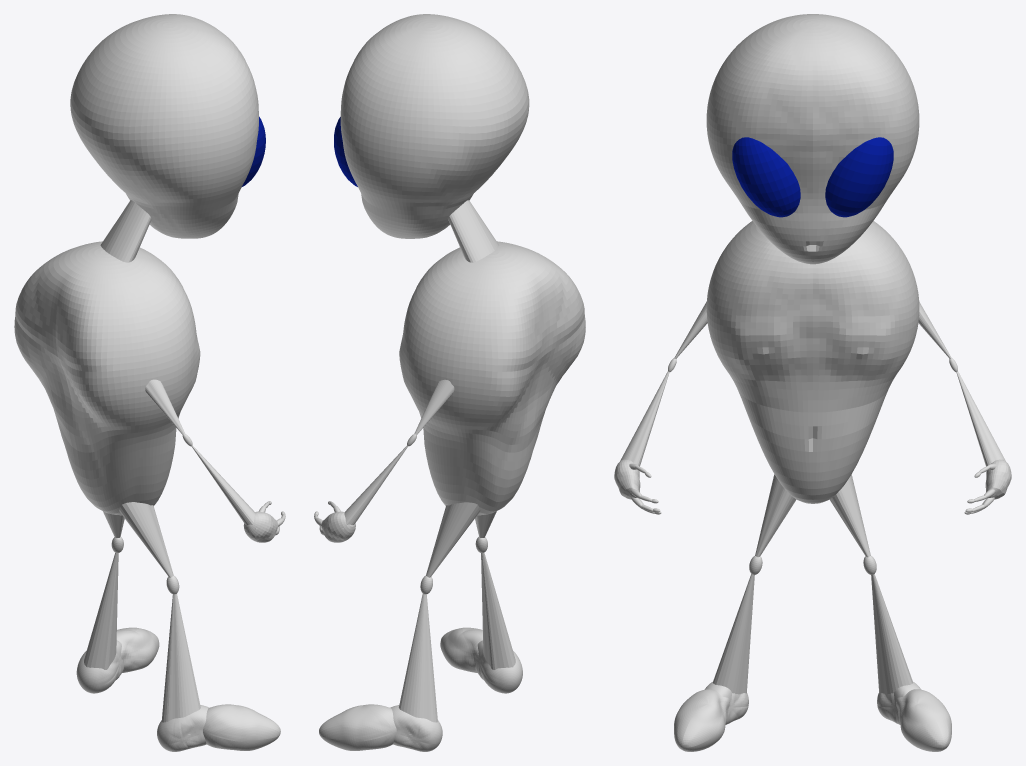
Rendered from alien.fbx.
The picture shows the model from 3 angles, left to right: view 1: azimuth 30°, elevation 25°; view 2: azimuth 150°, elevation 25°; view 3: azimuth 270°, elevation 25°; orthographic projection. The views are drawn at different scales.
Parts seen in each view (by area): view 1: Sphere.003, Sphere, Cone.001, Cone.004, Cylinder, Cone.002, Sphere.004, Sphere.001; view 2: Sphere.003, Sphere, Cone.004, Cone.001, Cylinder, Cone.003, Sphere.008, Sphere.002; view 3: Sphere.003, Sphere, Cone.001, Cone.004, Sphere.001, Sphere.002, Cone.002, Cone.003, Sphere.008, Sphere.004.
Part boxes in pixels (x1,y1,x2,y2): Sphere.003: [14, 241, 200, 515]; Sphere: [70, 14, 258, 238]; Cone.001: [119, 502, 280, 751]; Cone.004: [76, 511, 159, 693]; Cylinder: [100, 200, 151, 262]; Cone.002: [145, 379, 257, 529]; Sphere.004: [243, 501, 285, 542]; Sphere.001: [242, 116, 265, 186]; Sphere.003: [399, 241, 585, 515]; Sphere: [340, 14, 529, 238]; Cone.004: [319, 502, 480, 751]; Cone.001: [440, 511, 522, 693]; Cylinder: [448, 200, 499, 262]; Cone.003: [342, 379, 454, 529]; Sphere.008: [314, 501, 355, 542]; Sphere.002: [334, 117, 357, 186]; Sphere.003: [706, 221, 919, 503]; Sphere: [706, 14, 919, 264]; Cone.001: [674, 474, 796, 751]; Cone.004: [829, 474, 951, 751]; Sphere.001: [732, 137, 800, 217]; Sphere.002: [825, 137, 893, 217]; Cone.002: [620, 301, 707, 466]; Cone.003: [918, 302, 1005, 466]; Sphere.008: [964, 459, 1011, 514]; Sphere.004: [614, 459, 661, 514].
Size of the model in its own units: 216 by 739 by 373.
